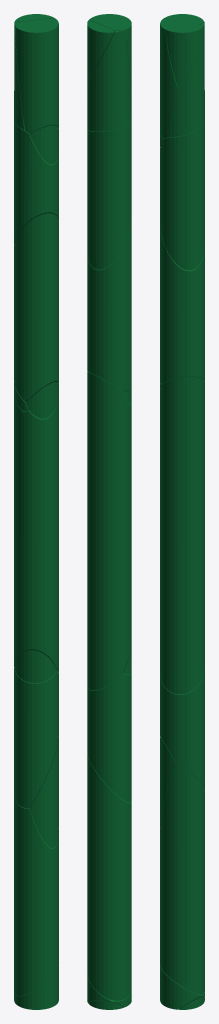
The model's file is pole_fractured.fbx.
The picture shows the model from 3 angles, left to right: view 1: azimuth 90°, elevation 25°; view 2: azimuth 210°, elevation 25°; view 3: azimuth 270°, elevation 25°; orthographic projection.
Parts seen in each view (by area): view 1: pole_cell.002, pole_cell, pole_cell.015, pole_cell.017, pole_cell.012, pole_cell.008, pole_cell.001, pole_cell.013, pole_cell.011, pole_cell.010, pole_cell.014, pole_cell.005 (+1 smaller); view 2: pole_cell.002, pole_cell.015, pole_cell.008, pole_cell, pole_cell.017, pole_cell.005, pole_cell.007, pole_cell.012, pole_cell.011, pole_cell.019; view 3: pole_cell.002, pole_cell.015, pole_cell.008, pole_cell, pole_cell.017, pole_cell.005, pole_cell.012, pole_cell.007, pole_cell.011, pole_cell.001, pole_cell.019.
Boxes of the visible parts, x1,y1,x2,y2 form: pole_cell.002: (14, 381, 58, 672); pole_cell: (14, 213, 58, 402); pole_cell.015: (14, 791, 58, 995); pole_cell.017: (14, 668, 58, 807); pole_cell.012: (15, 18, 58, 133); pole_cell.008: (14, 121, 58, 244); pole_cell.001: (29, 737, 58, 847); pole_cell.013: (14, 650, 56, 683); pole_cell.011: (14, 966, 58, 1009); pole_cell.010: (29, 125, 58, 164); pole_cell.014: (26, 382, 58, 418); pole_cell.005: (14, 20, 24, 129); pole_cell.002: (87, 372, 131, 690); pole_cell.015: (87, 757, 131, 1000); pole_cell.008: (87, 123, 131, 269); pole_cell: (87, 221, 131, 393); pole_cell.017: (87, 674, 131, 802); pole_cell.005: (87, 30, 131, 131); pole_cell.007: (87, 20, 114, 79); pole_cell.012: (87, 14, 131, 109); pole_cell.011: (87, 974, 131, 1007); pole_cell.019: (88, 1000, 123, 1009); pole_cell.002: (160, 377, 204, 694); pole_cell.015: (160, 763, 204, 994); pole_cell.008: (160, 121, 204, 270); pole_cell: (160, 222, 204, 385); pole_cell.017: (160, 668, 204, 789); pole_cell.005: (170, 22, 204, 136); pole_cell.012: (160, 14, 203, 137); pole_cell.007: (165, 25, 203, 86); pole_cell.011: (160, 966, 204, 1009); pole_cell.001: (160, 737, 175, 827); pole_cell.019: (178, 996, 204, 1009).
Size of the model in its own units: 16.82 by 406 by 16.82.
